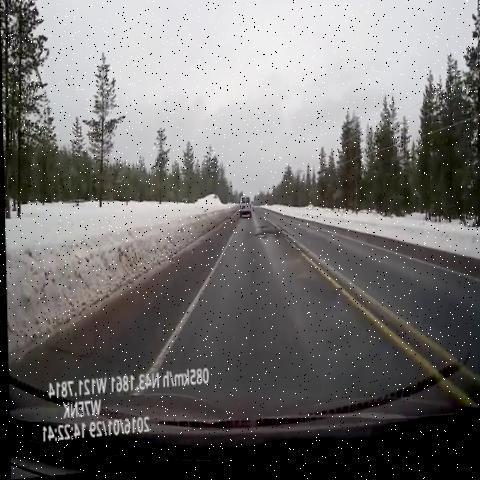pothole: (252, 226, 281, 254)
